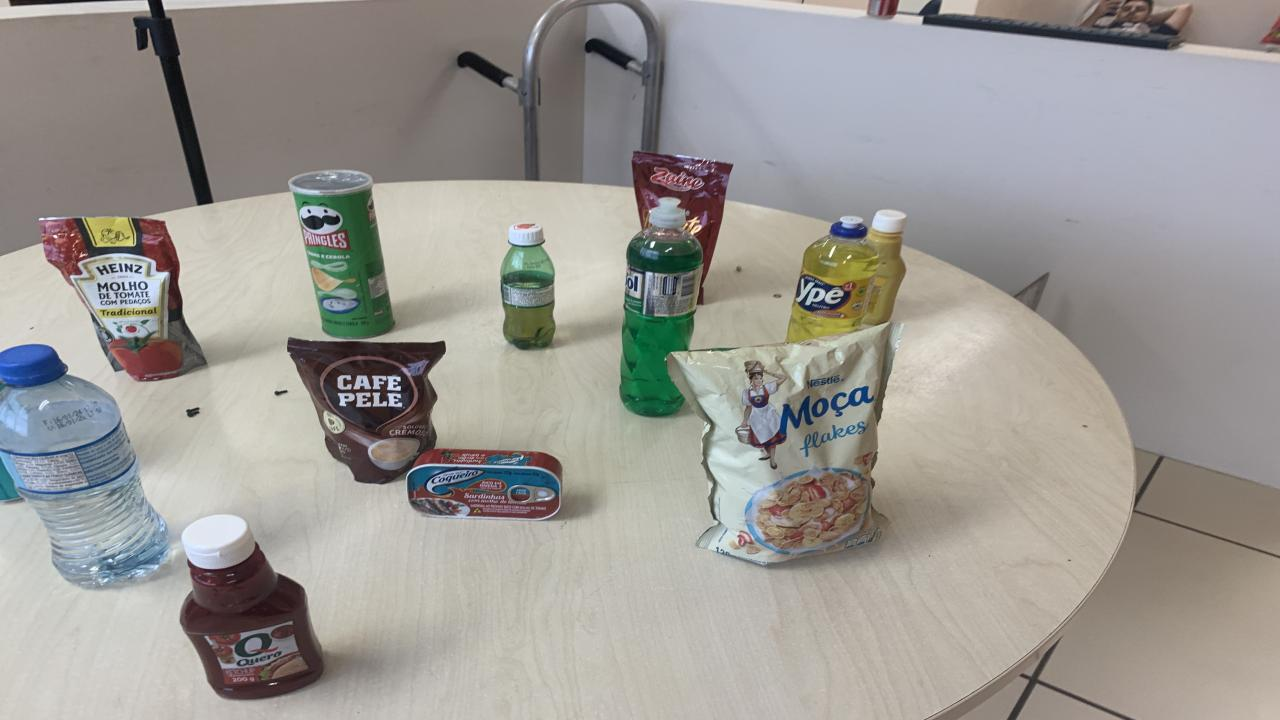Coffee-Pantry_Items: (288, 338, 445, 484)
Detergent-Cleanup_Items: (620, 197, 702, 416), (785, 216, 878, 343)
Flakes-Snacks: (668, 322, 902, 564)
Guarana-Drinks: (500, 223, 555, 349)
Ketchup-Pantry_Items: (180, 514, 322, 699)
Mustard-Pantry_Items: (862, 210, 908, 324)
Pringles-Snacks: (288, 171, 395, 338)
Tomato_Sauce-Pantry_Items: (40, 218, 208, 381), (632, 152, 732, 285)
Tuna_Can-Pantry_Items: (408, 450, 562, 519)
Water_Bottle-Drinks: (0, 345, 170, 587)
